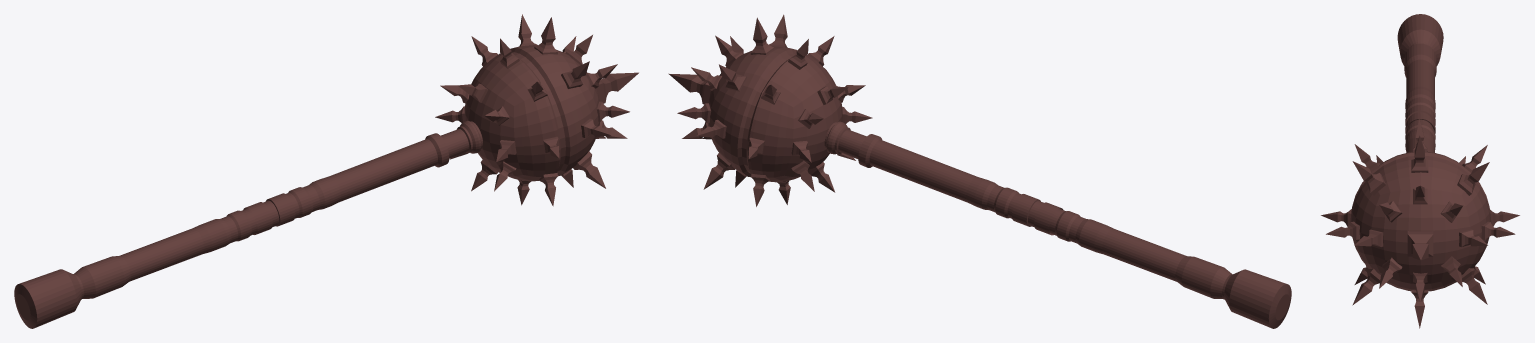
Rendered from rat_king_weapon (1).fbx.
The picture shows the model from 3 angles, left to right: view 1: azimuth 30°, elevation 25°; view 2: azimuth 150°, elevation 25°; view 3: azimuth 270°, elevation 25°; orthographic projection. The views are drawn at different scales.
Parts seen in each view (by area): view 1: Cylinder; view 2: Cylinder; view 3: Cylinder.
Boxes of the visible parts, left/top/right/bottom form: Cylinder: left=14, top=14, right=638, bottom=328; Cylinder: left=668, top=14, right=1291, bottom=328; Cylinder: left=1321, top=14, right=1519, bottom=328.
Bounding box in the file's own units: 274 × 77.81 × 74.53.
